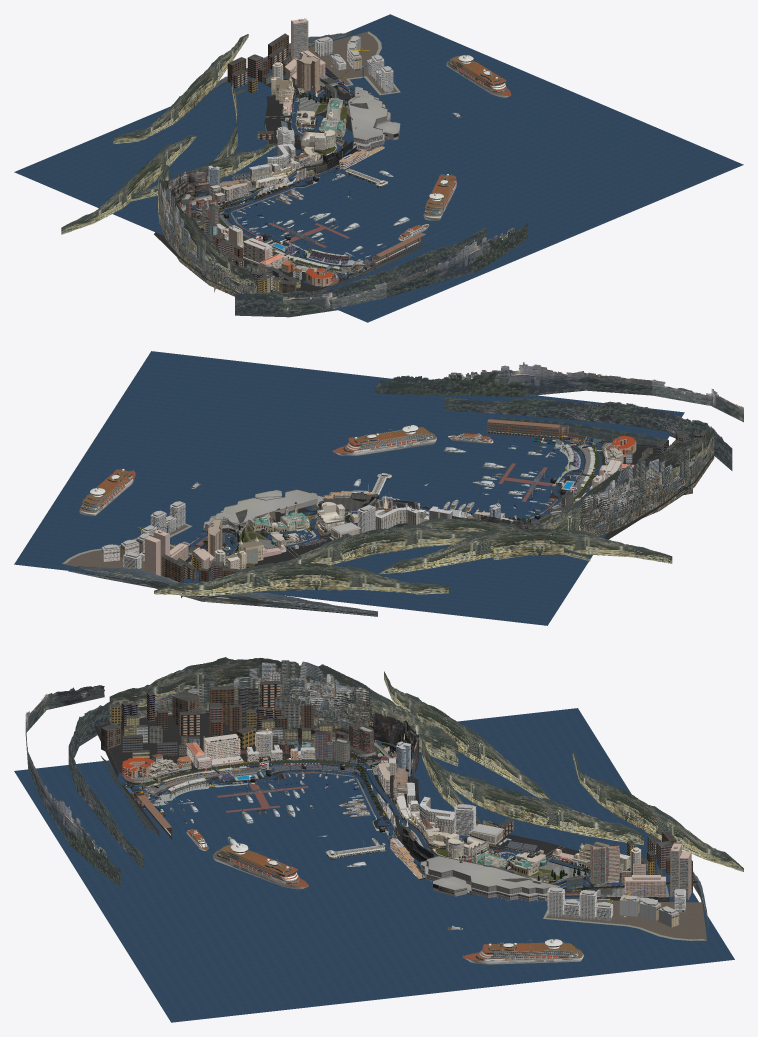
The model's file is monaco.glb.
3 renders of one model, top to bottom at view 1: azimuth 30°, elevation 25°; view 2: azimuth 150°, elevation 25°; view 3: azimuth 270°, elevation 25°, orthographic. The views are drawn at different scales.
Visible parts, largest first — view 1: t_1_0, t_-1_-1, t_-2_2, t_1_-3, t_0_-1, t_1_-2, t_-2_-1, t_-2_1, t_0_2, t_0_-3, t_-2_0, t_0_-2 (+12 smaller); view 2: t_1_0, t_-1_-1, t_0_-3, t_1_-3, t_-2_-1, t_0_2, t_0_-1, t_-1_2, t_-2_0, t_0_-2, t_-1_-2, t_1_-2 (+15 smaller); view 3: t_1_0, t_-1_-1, t_-2_0, t_-2_1, t_1_-3, t_1_-2, t_-2_-1, t_0_-1, t_-2_2, t_0_-2, t_0_-3, t_-3_1 (+13 smaller).
Part boxes in pixels (bbox=[...]): t_1_0: bbox=[367, 14, 743, 322]; t_-1_-1: bbox=[14, 14, 390, 322]; t_-2_2: bbox=[209, 268, 372, 317]; t_1_-3: bbox=[263, 18, 369, 89]; t_0_-1: bbox=[265, 120, 384, 182]; t_1_-2: bbox=[293, 55, 400, 128]; t_-2_-1: bbox=[122, 145, 225, 220]; t_-2_1: bbox=[177, 225, 315, 291]; t_0_2: bbox=[383, 227, 502, 282]; t_0_-3: bbox=[194, 37, 281, 106]; t_-2_0: bbox=[154, 179, 263, 256]; t_0_-2: bbox=[232, 76, 338, 141]; t_1_0: bbox=[14, 351, 684, 564]; t_-1_-1: bbox=[14, 412, 684, 625]; t_0_-3: bbox=[154, 549, 316, 608]; t_1_-3: bbox=[67, 525, 227, 601]; t_-2_-1: bbox=[433, 499, 590, 567]; t_0_2: bbox=[444, 362, 585, 423]; t_0_-1: bbox=[281, 484, 417, 538]; t_-1_2: bbox=[510, 398, 659, 456]; t_-2_0: bbox=[512, 455, 660, 539]; t_0_-2: bbox=[229, 516, 364, 565]; t_-1_-2: bbox=[317, 525, 472, 593]; t_1_-2: bbox=[136, 501, 281, 557]; t_1_0: bbox=[14, 771, 734, 1022]; t_-1_-1: bbox=[15, 708, 734, 959]; t_-2_0: bbox=[262, 658, 392, 776]; t_-2_1: bbox=[143, 680, 279, 777]; t_1_-3: bbox=[608, 842, 706, 938]; t_1_-2: bbox=[483, 845, 627, 924]; t_-2_-1: bbox=[372, 690, 514, 783]; t_0_-1: bbox=[381, 804, 502, 878]; t_-2_2: bbox=[68, 688, 172, 778]; t_0_-2: bbox=[490, 794, 643, 872]; t_0_-3: bbox=[618, 791, 743, 875]; t_-3_1: bbox=[132, 657, 260, 713].
Bounding box in the file's own units: 1739 × 208 × 1601.
Materials: 439 (439 with a texture image).
